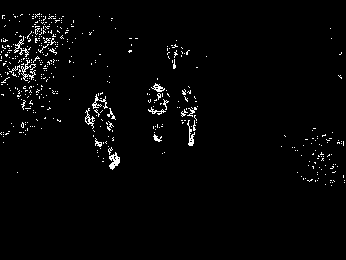person: (86, 91, 122, 170), (142, 79, 171, 143), (178, 87, 208, 146)
